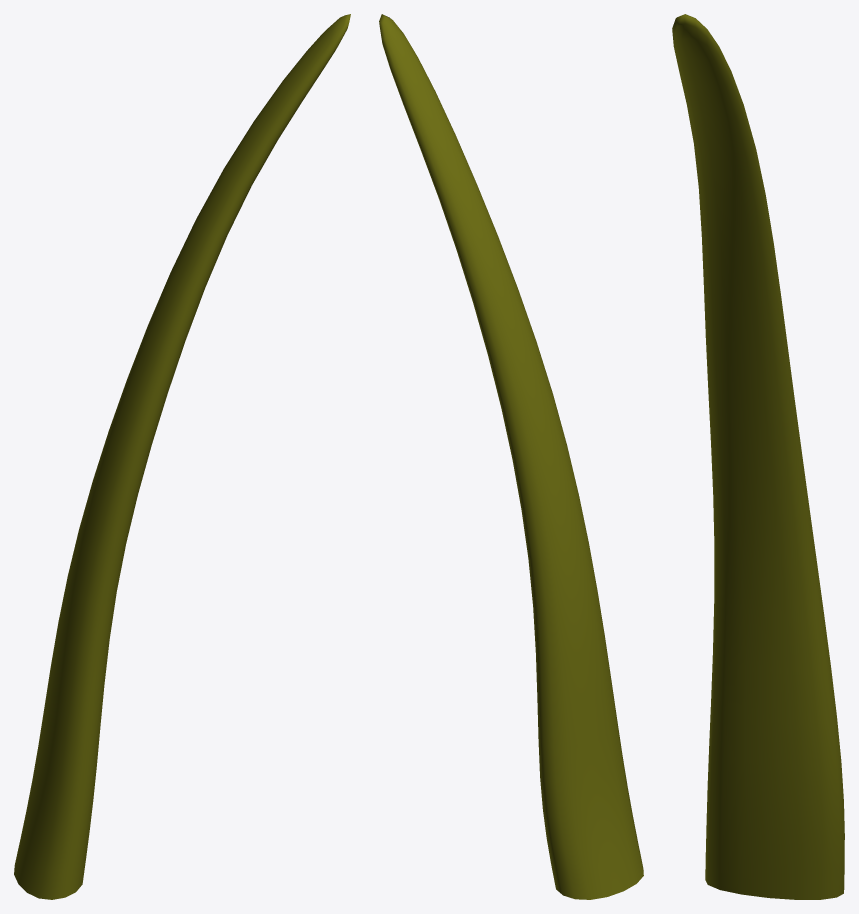
Rendered from grass3.glb.
3 renders of one model, left to right at view 1: azimuth 30°, elevation 25°; view 2: azimuth 150°, elevation 25°; view 3: azimuth 270°, elevation 25°, orthographic. The views are drawn at different scales.
Visible parts, largest first — view 1: grass.004; view 2: grass.004; view 3: grass.004.
Boxes of the visible parts, x1,y1,x2,y2 form: grass.004: (14,14,350,899); grass.004: (379,14,643,899); grass.004: (672,14,844,899).
Size of the model in its own units: 0.1798 by 0.4789 by 0.072.
